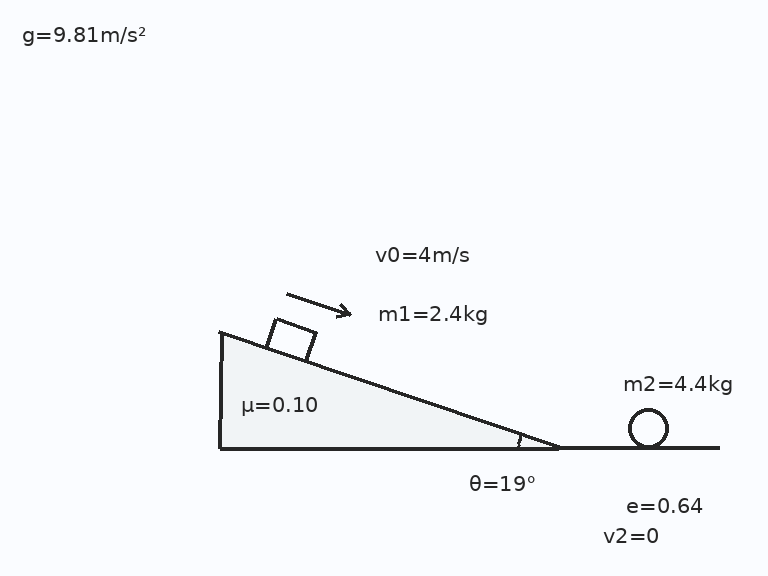ball: (626, 406, 670, 450)
block: (264, 316, 317, 363)
ramp: (218, 330, 560, 450)
